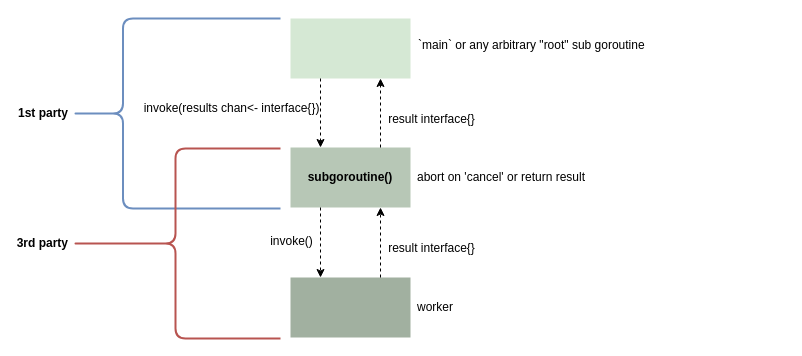
This 802x356 diagram has some shape labels left out. Each missing label, with the centre of its shape:
main(): point 350,48
workerGoRoutine: point 350,307
